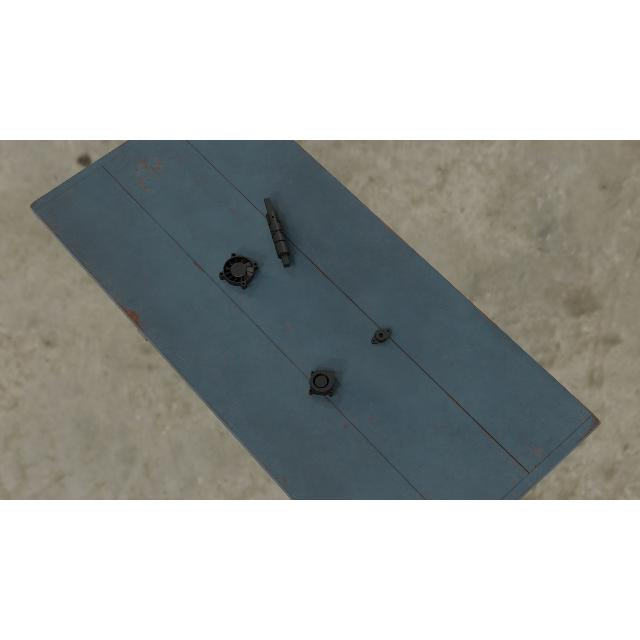Pieza1: (261, 196, 293, 270)
Pieza2: (368, 324, 394, 348)
Pieza3: (308, 370, 336, 398)
Pieza4: (218, 252, 260, 290)
